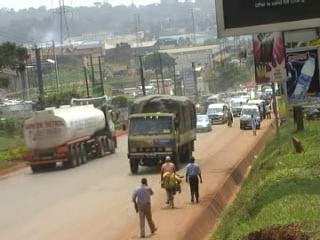Car: (196, 110, 214, 135)
